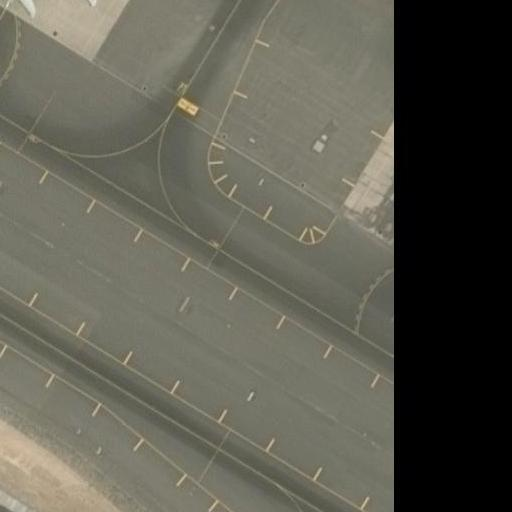Aircraft: (0, 0, 104, 30)
